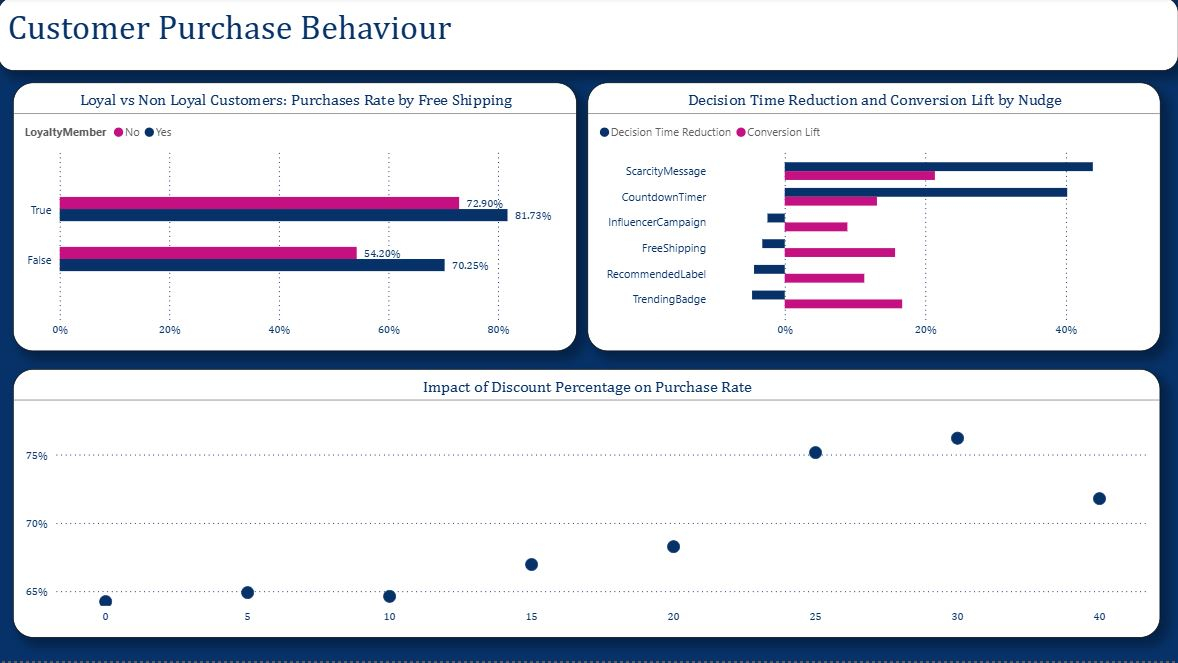

The dashboard page shown, as its layout file describes it:
{"tool":"powerbi","page":{"name":"Customer Responsiveness & Segmentation","canvas":[1280,720],"ordinal":2},"visuals":[{"type":"textbox","box":[0,0,1280.1,79.7],"z":0},{"type":"clusteredBarChart","title":"Loyal vs Non Loyal Customers: Purchases Rate by Free Shipping","fields":{"Category":["consumer_behavior_master_clustered.FreeShipping"],"Y":["consumer_behavior_master_clustered.Conversion Rate"],"Series":["consumer_behavior_master_clustered.LoyaltyMember"]},"box":[16.3,92.7,611.6,291.2],"z":1000},{"type":"scatterChart","title":"Impact of Discount Percentage on Purchase Rate","fields":{"X":["consumer_behavior_master_clustered.Discount_Percentage"],"Y":["consumer_behavior_master_clustered.Conversion Rate"]},"box":[16.3,403.4,1244.3,291.2],"z":2000},{"type":"clusteredBarChart","fields":{"Category":["NudgeAnalysis.Nudge"],"Y":["NudgeAnalysis.Decision Time Reduction","NudgeAnalysis.Conversion Lift"]},"box":[639.2,92.7,621.3,291.2],"z":3000}]}

Visuals, with their boxes in screenshot pixels (x1, y1, x2, y2), scaled from the page's 1280x720 canvas onto the 1178x663 screenshot:
textbox: x1=0 y1=0 x2=1177 y2=73
"Loyal vs Non Loyal Customers: Purchases Rate by Free Shipping" clusteredBarChart: x1=15 y1=85 x2=578 y2=354
"Impact of Discount Percentage on Purchase Rate" scatterChart: x1=15 y1=371 x2=1160 y2=640
clusteredBarChart - NudgeAnalysis.Nudge x NudgeAnalysis.Decision Time Reduction: x1=588 y1=85 x2=1160 y2=354
